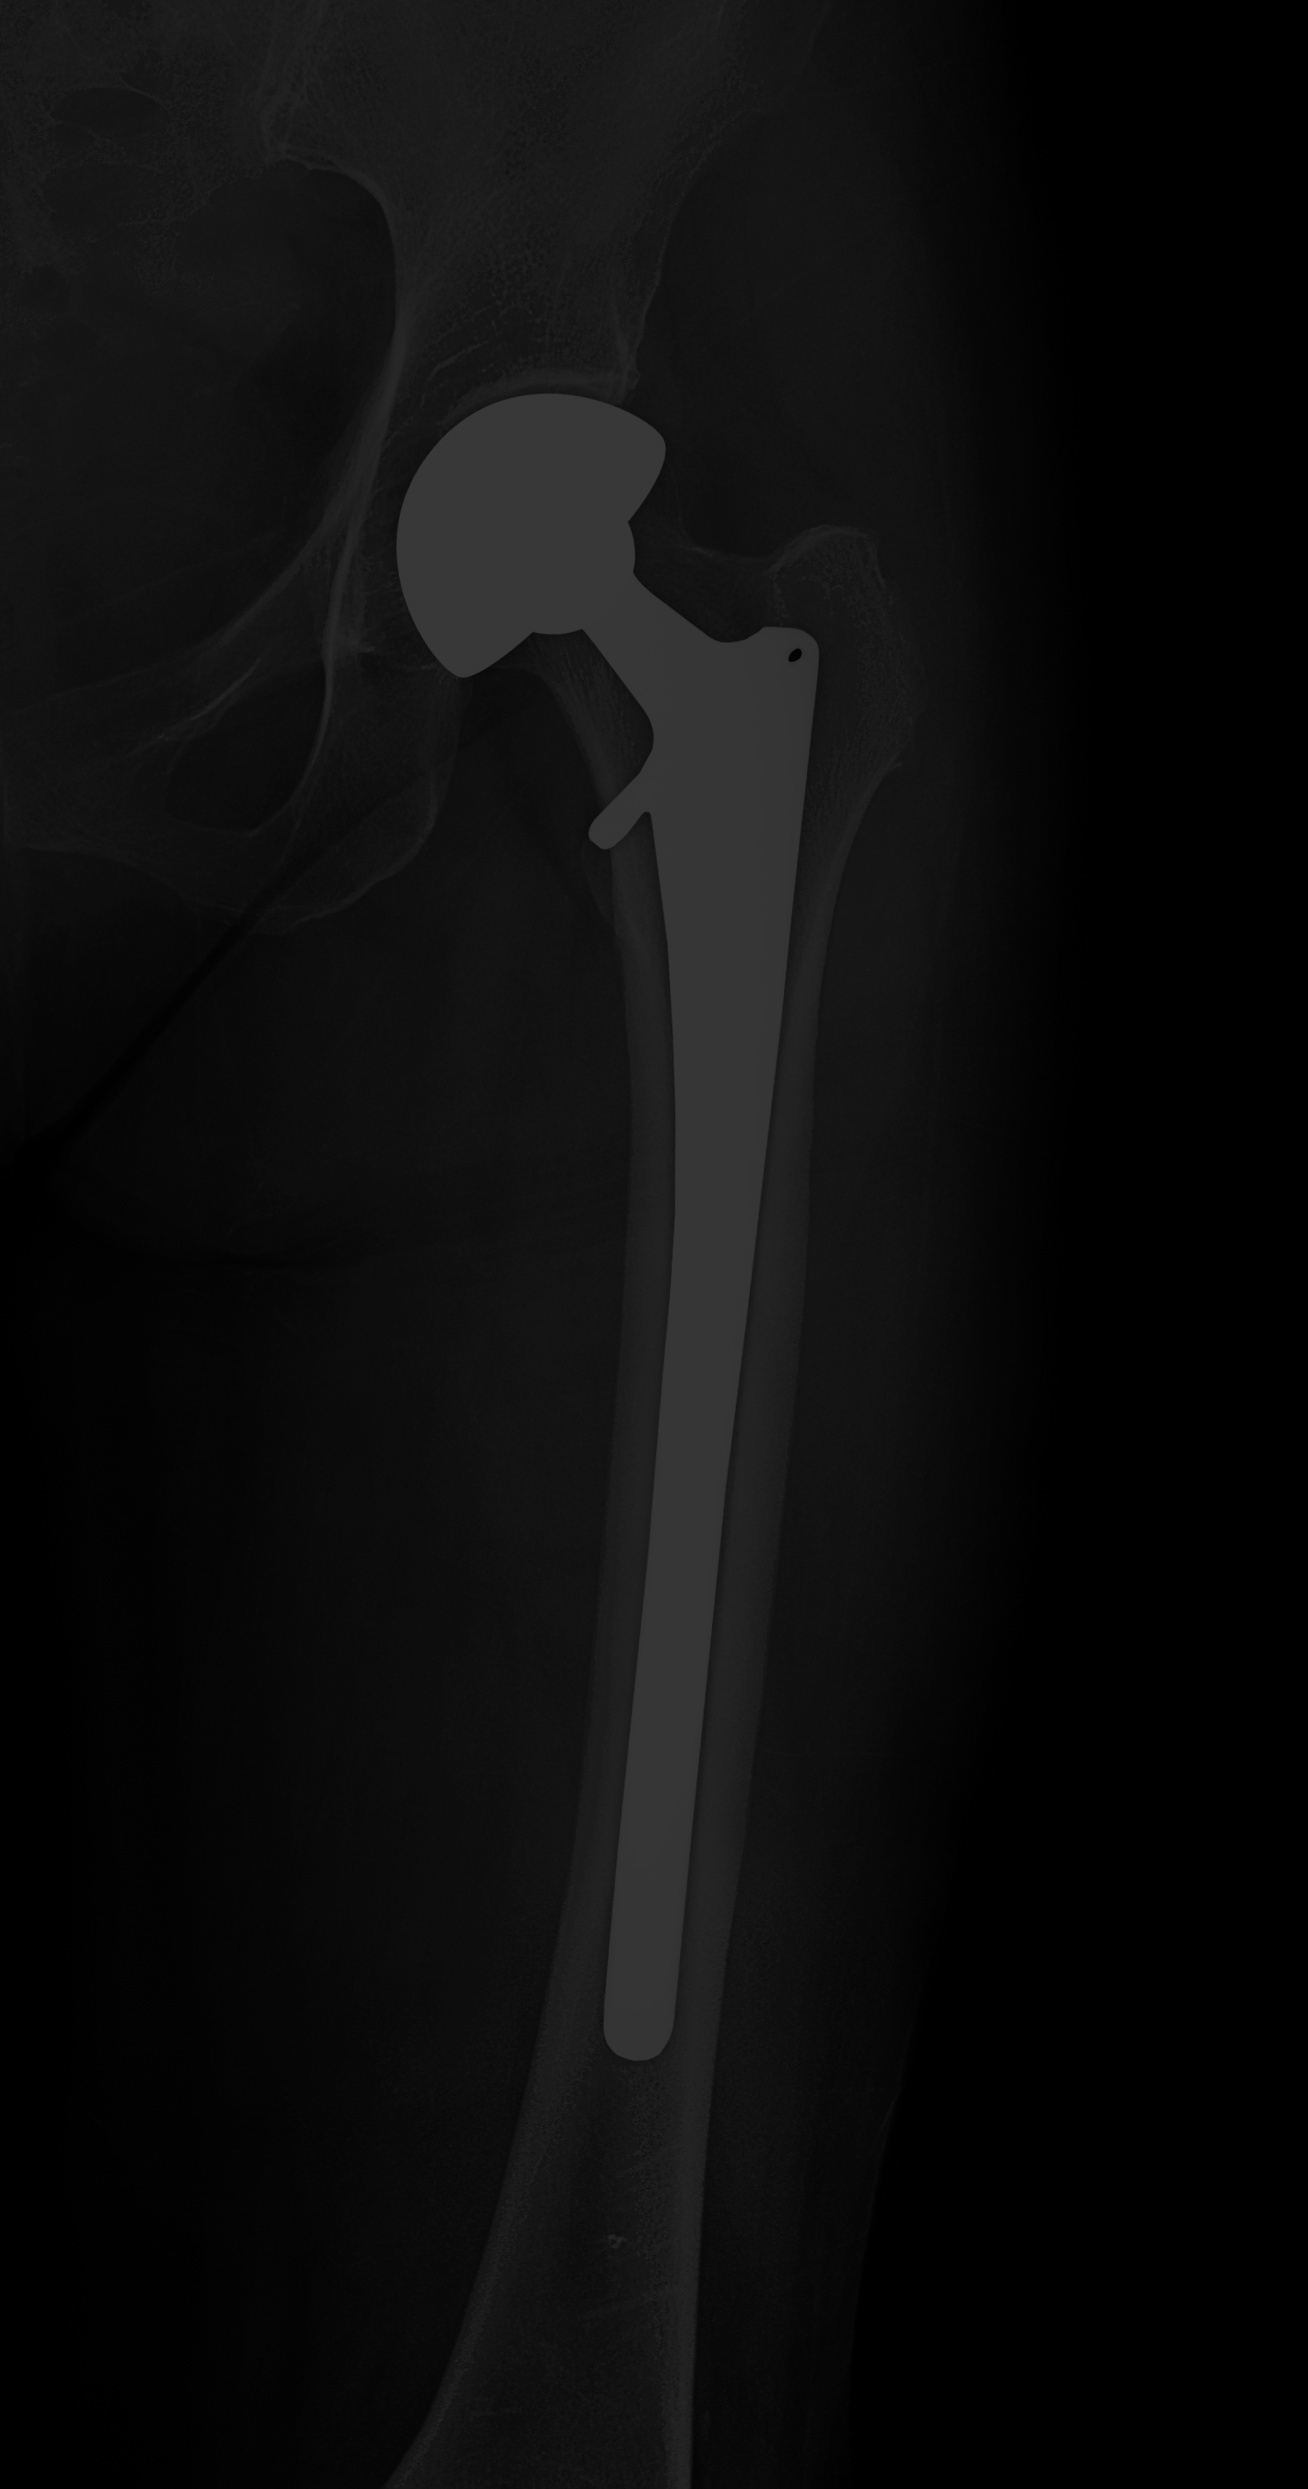Hip - Bias - Zimmer: (370, 300, 948, 2115)
